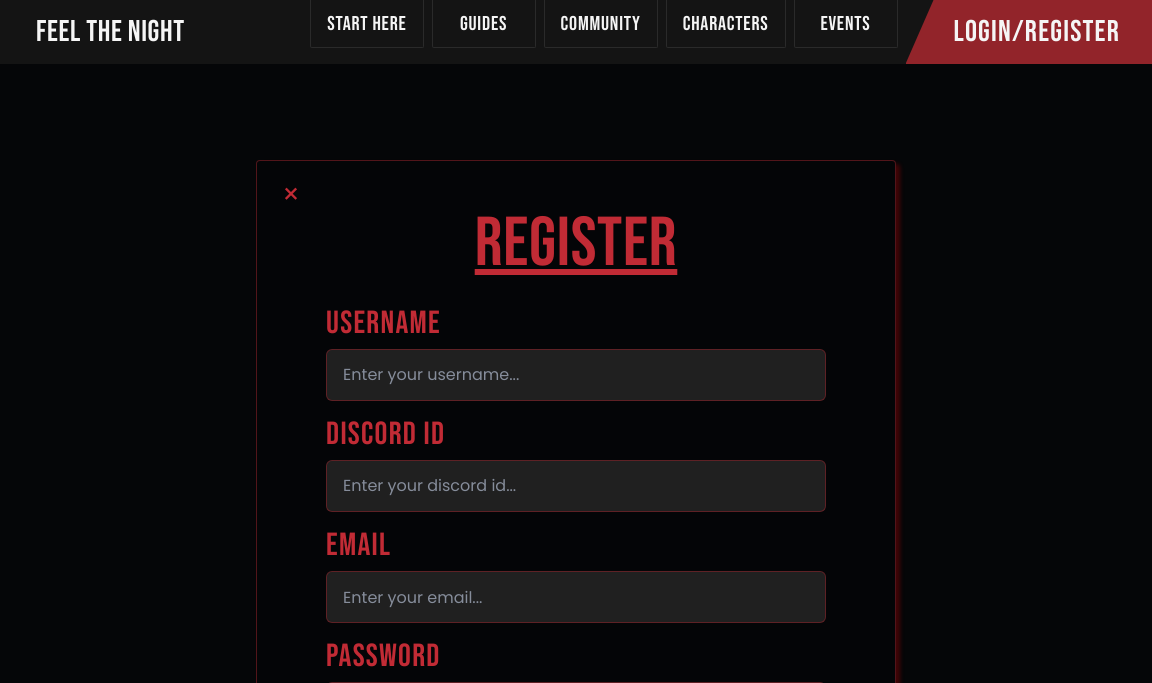
Register › accepts a valid submission and says no account was created
Type "kisalto" into the field labelled "Username". click: (576, 375)
box: x1=326 y1=349 x2=826 y2=401
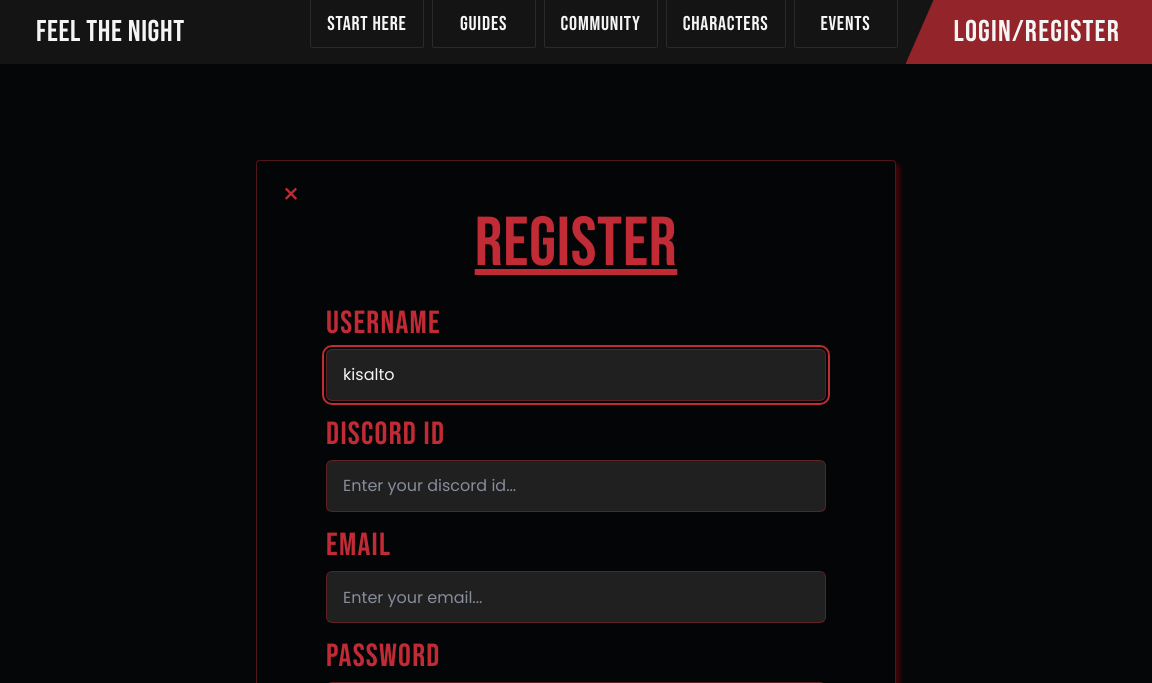
Type "kisalto" into the field labelled "discord id". click: (576, 486)
box: x1=326 y1=460 x2=826 y2=512
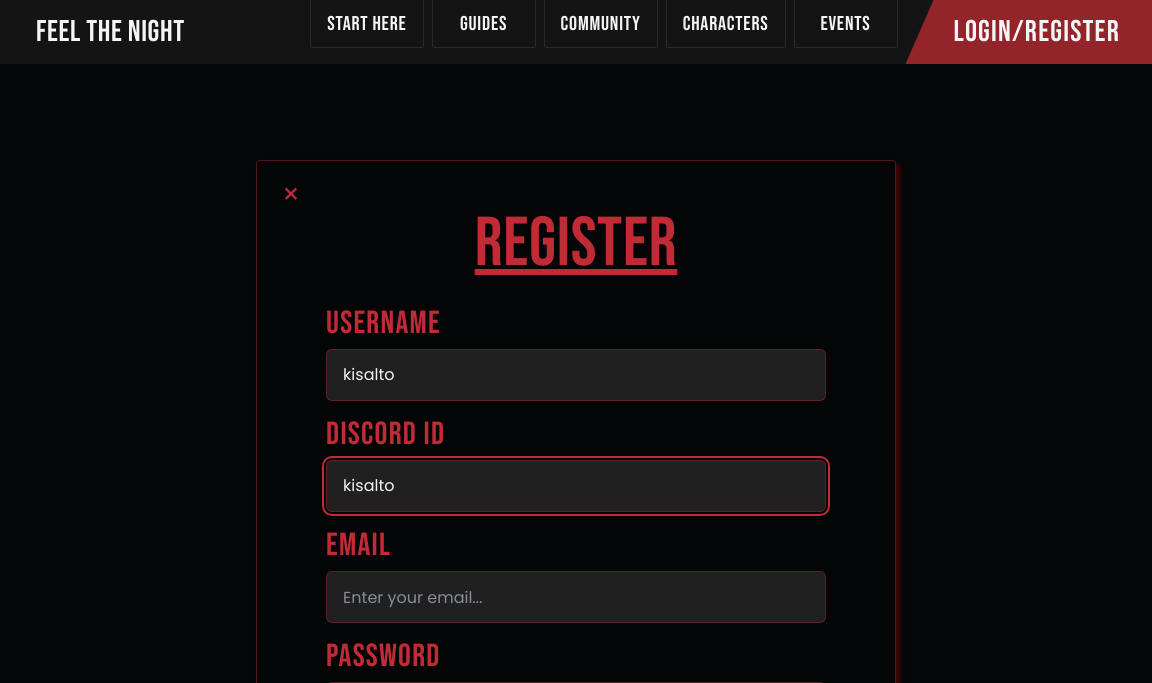
Type "kisalto@feelthenight.gg" into the field labelled "email". click: (576, 597)
box: x1=326 y1=571 x2=826 y2=623
(page scrolled)
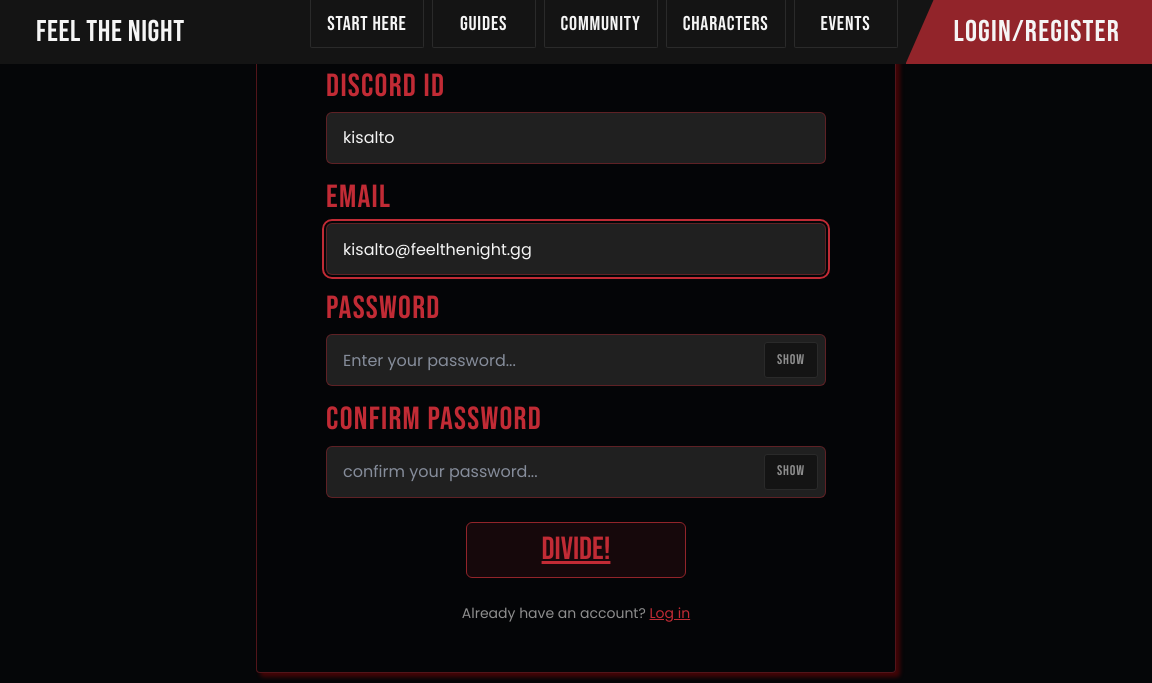
Type "nightfall1" into the password field labelled "password". click: (576, 360)
box: x1=326 y1=334 x2=826 y2=386
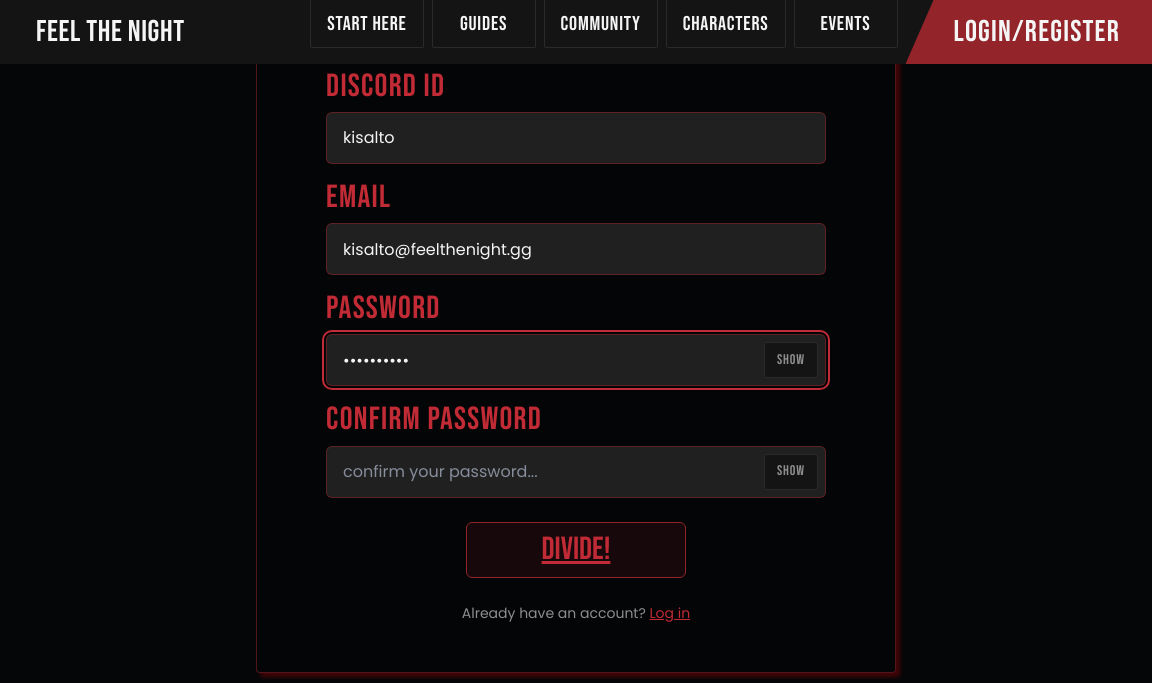
Type "nightfall1" into the password field labelled "confirm password". click: (576, 472)
box: x1=326 y1=446 x2=826 y2=498
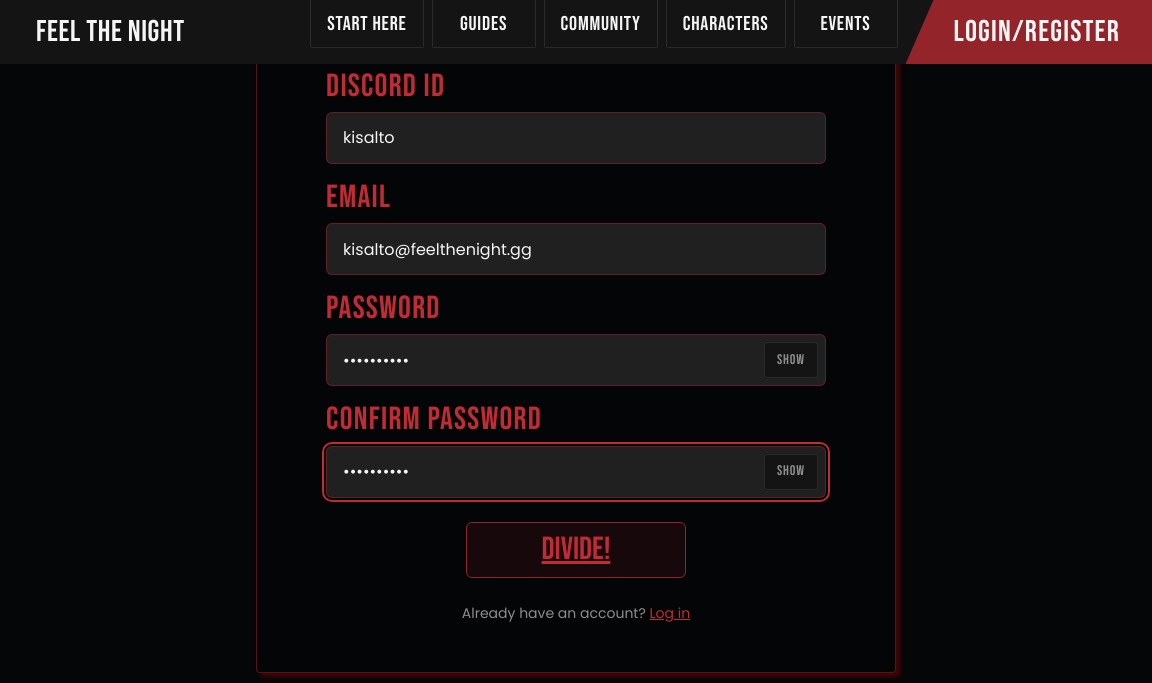
Click the button "divide!". click: (576, 550)
box: x1=466 y1=522 x2=686 y2=578
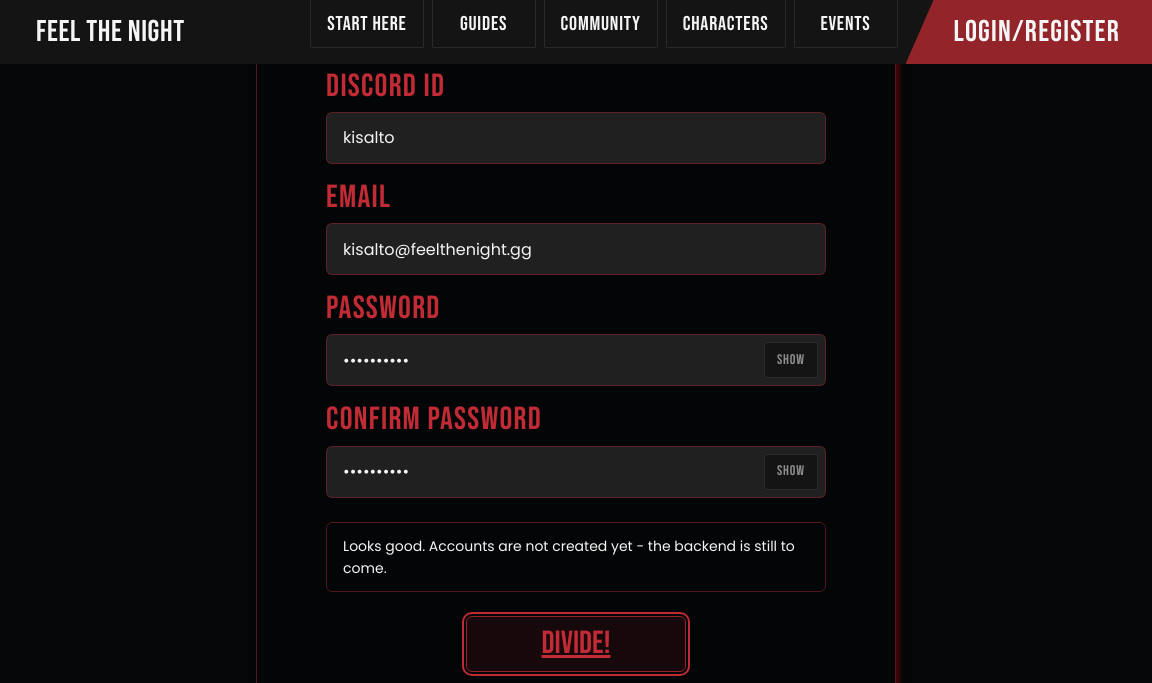
Result: the message shows "Accounts are not created yet" at x1=343 y1=536 x2=795 y2=578
